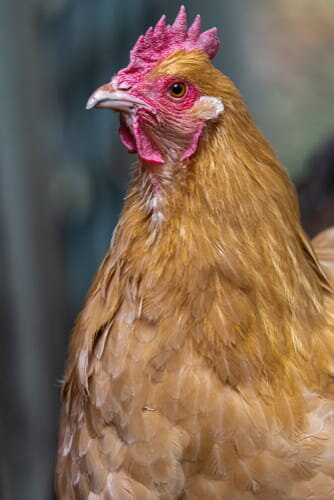buff: (77, 3, 330, 397)
